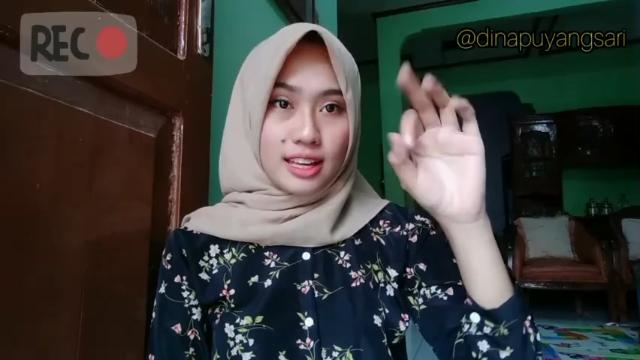F: (388, 63, 490, 222)
